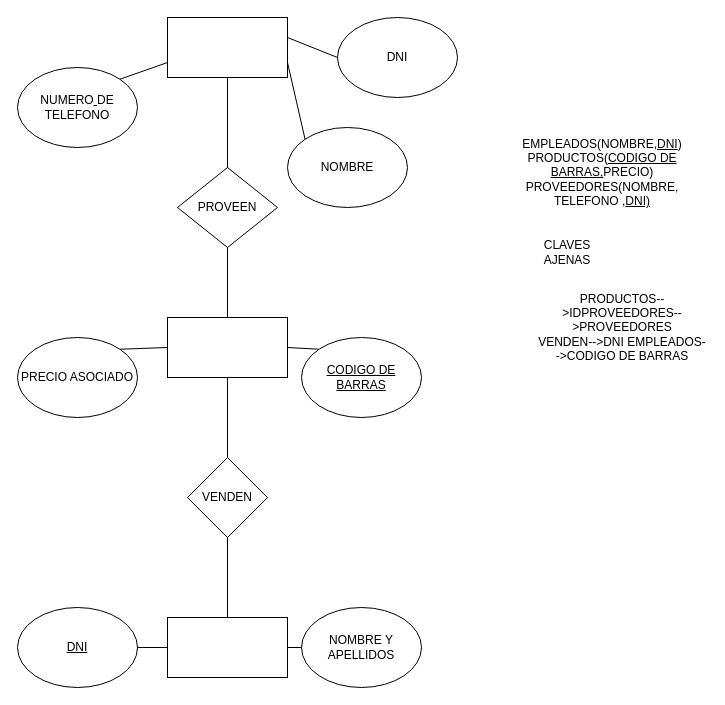
This 725x705 diagram has some shape labels left out. Each missing label, with the box of its shape:
EMPLEADOS: (166, 616, 288, 678)
PROCUCTOS: (166, 316, 288, 378)
PROVEEDORES: (166, 16, 288, 78)
